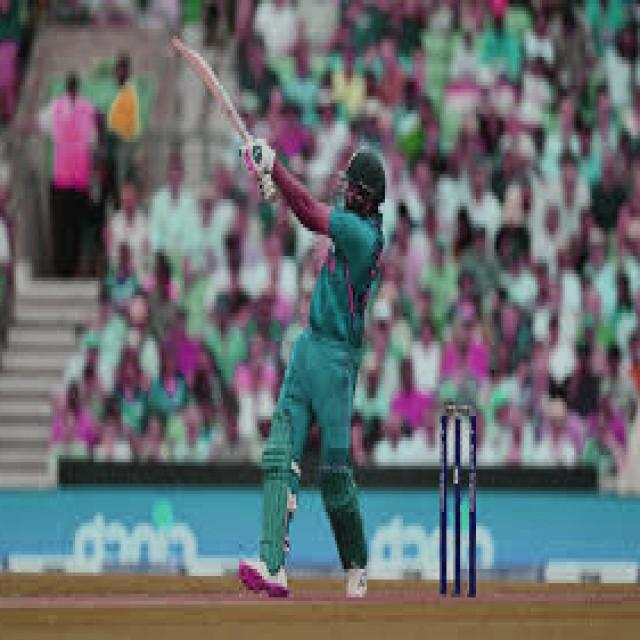toe: (163, 31, 192, 58)
